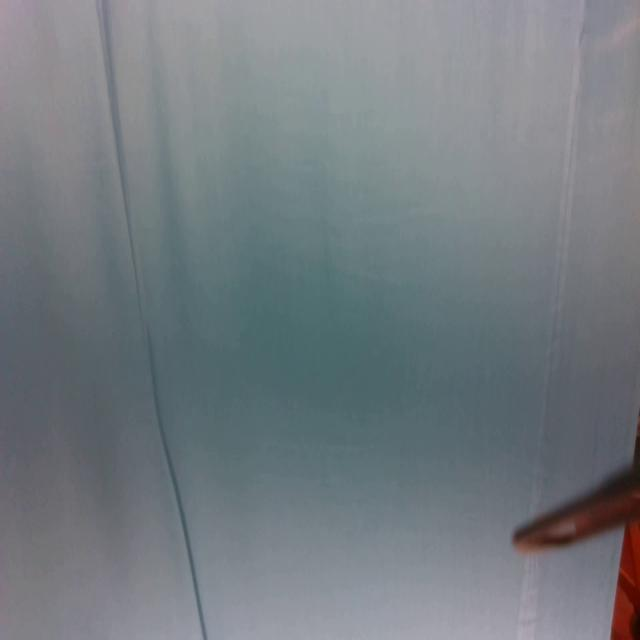crease: (94, 1, 208, 640), (528, 3, 587, 496), (517, 553, 543, 640)
